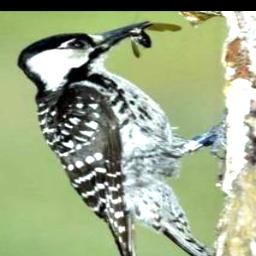Woodpecker: (19, 18, 230, 256)
